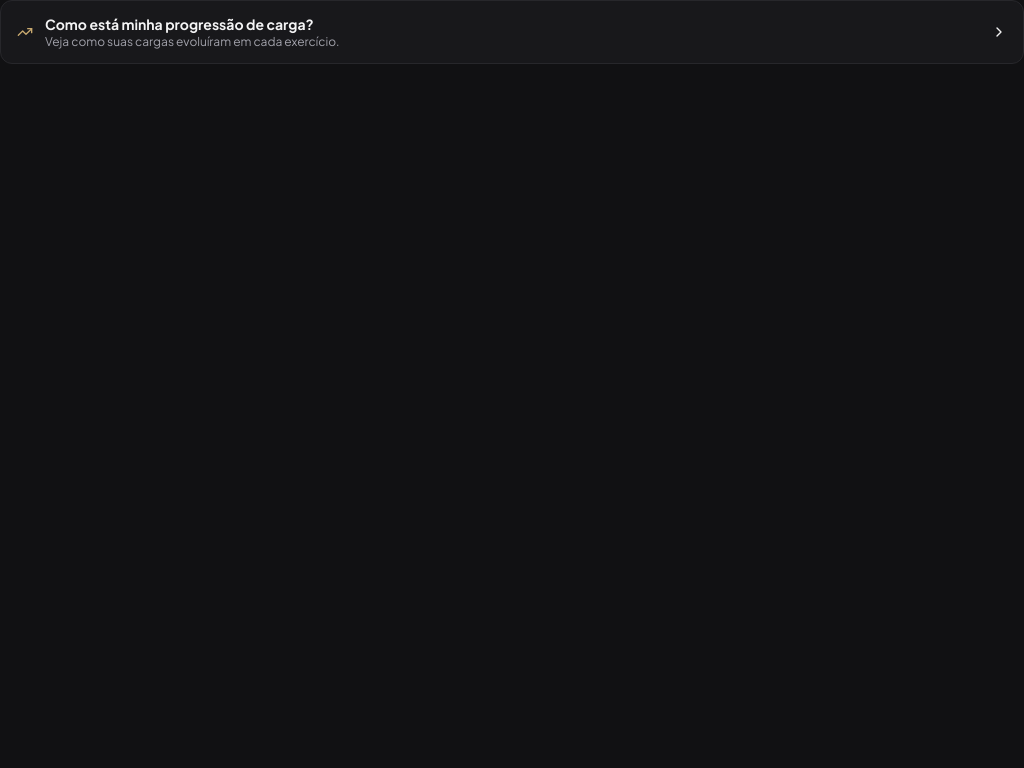
Scenario: progressão acompanha a semana que o aluno está vendo › 'Todas as semanas' continua mostrando tudo, agrupado
The image size is (1024, 768).
Click the text "Como está minha progressão de carga?".
click(179, 24)  # box [45,15,314,33]
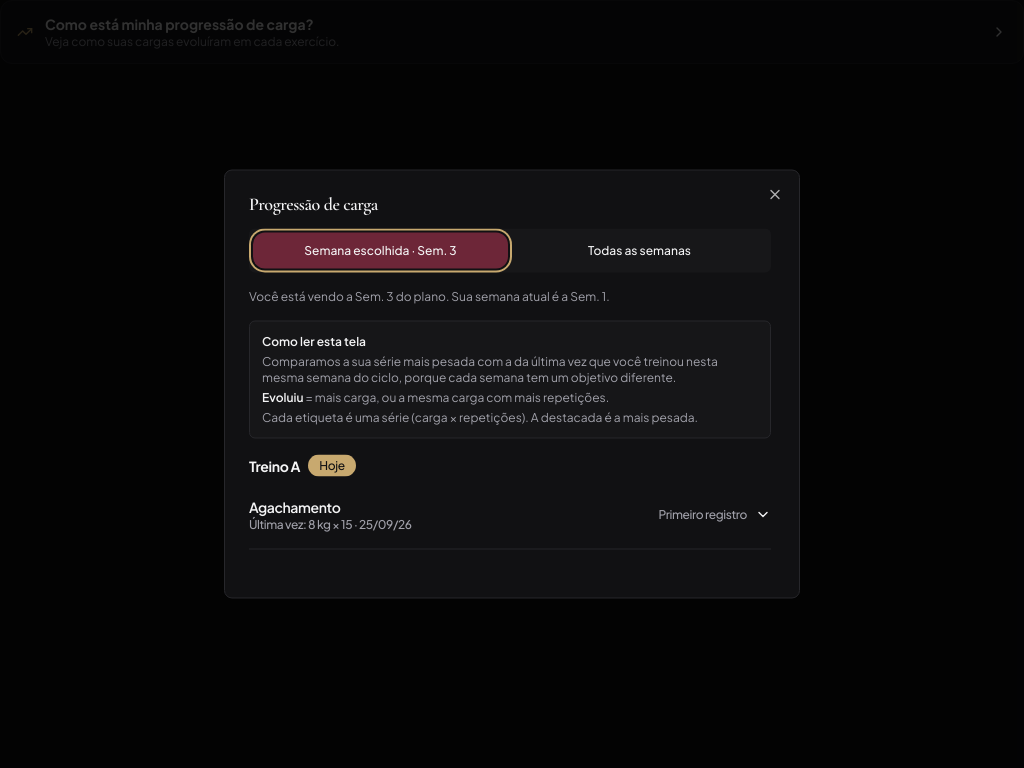
Expected: the text "Agachamento" is shown, [249,498,340,516]
Click the button "Todas as semanas".
click(640, 250)  # box [512,232,767,268]
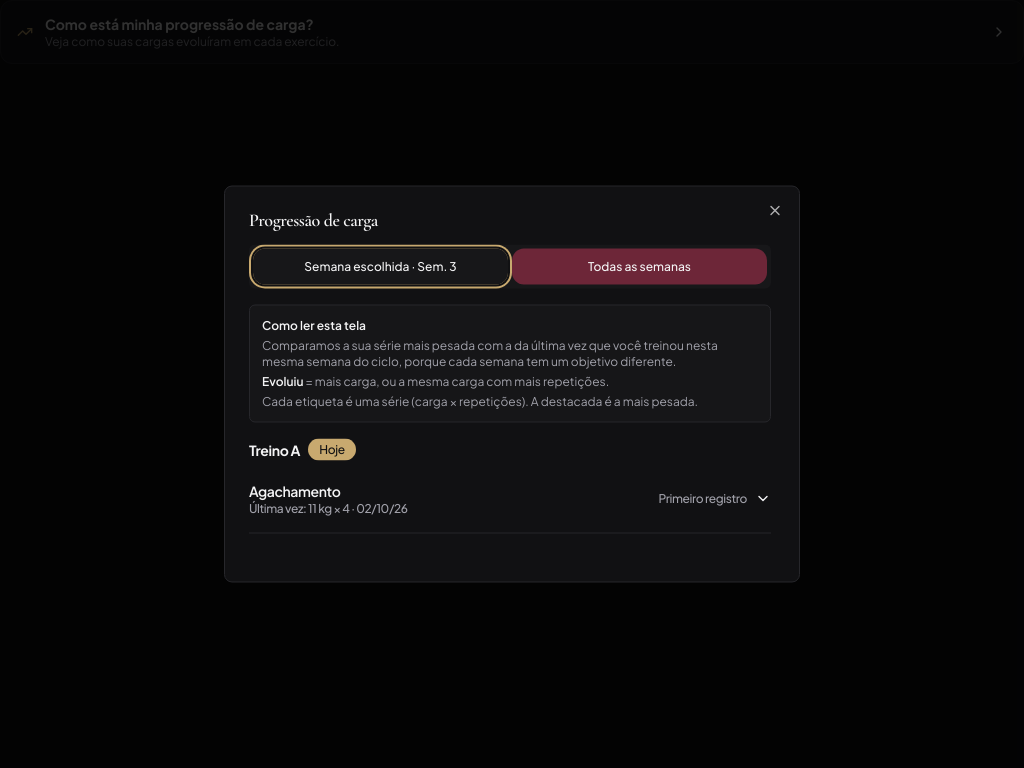
Expected: the text "Você está vendo a Sem." is gone
Click the text "Agachamento".
click(295, 490)  # box [249,482,340,500]
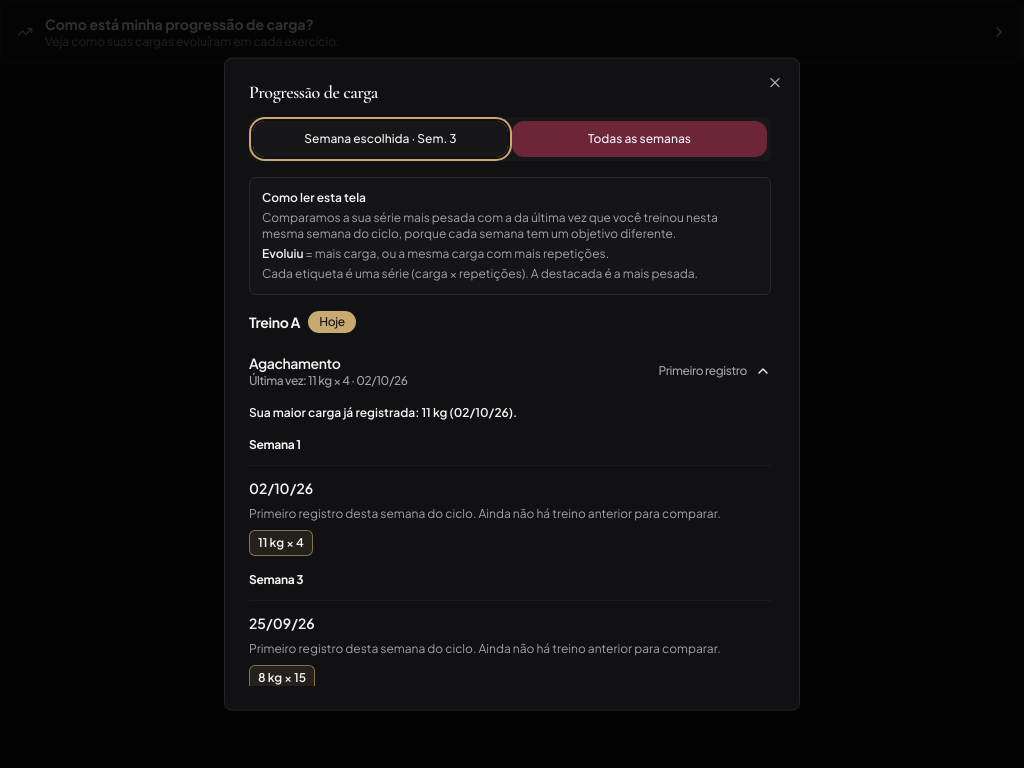
Expected: the heading "Semana 1" is shown, [249,437,301,452]
Expected: the heading "Semana 3" is shown, [249,572,303,587]
